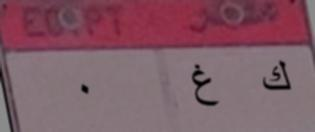0: (72, 71, 94, 106)
ghayn: (188, 56, 218, 120)
kaaf: (255, 55, 295, 99)
